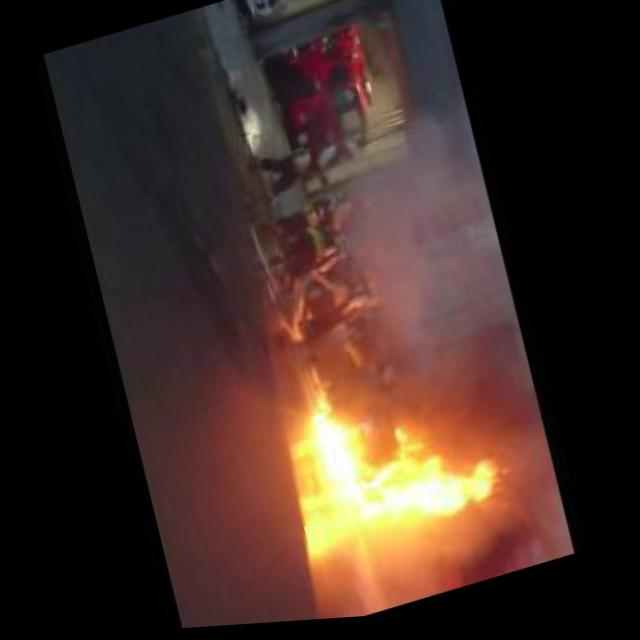Fire: (295, 355, 506, 568)
